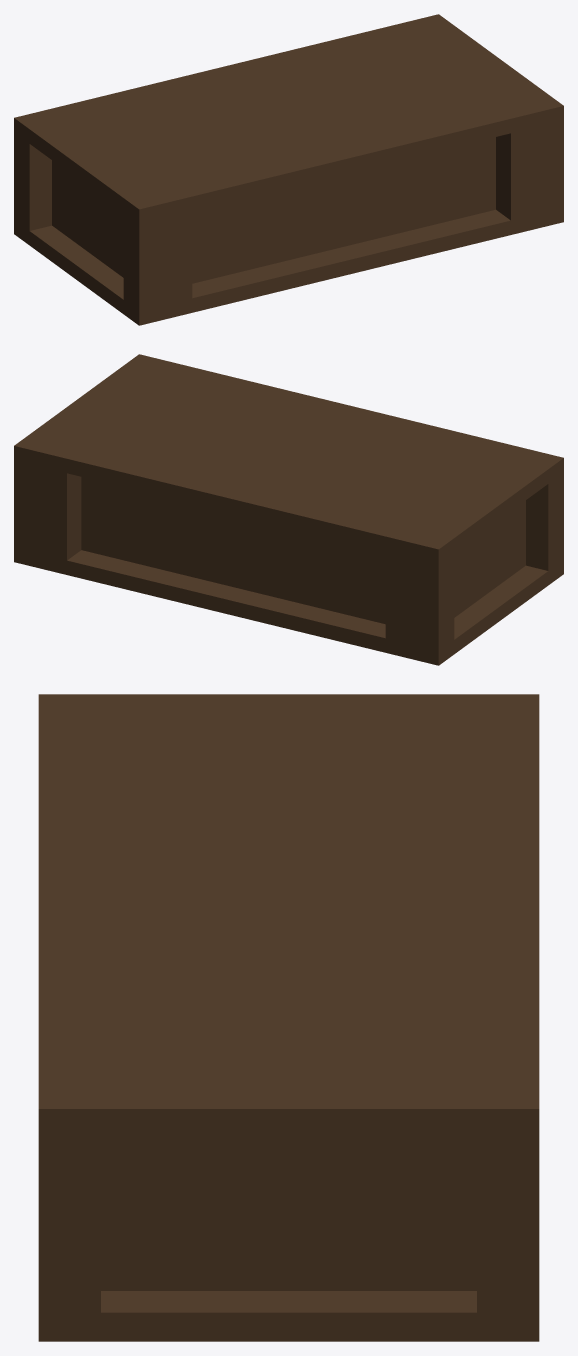
File: platform.fbx
3 views of the same model, one above another, from view 1: azimuth 30°, elevation 25°; view 2: azimuth 150°, elevation 25°; view 3: azimuth 270°, elevation 25° (orthographic). The views are drawn at different scales.
Parts seen in each view (by area): view 1: pCube1; view 2: pCube1; view 3: pCube1.
Part boxes in pixels (x1=…): pCube1: x1=14, y1=14, x2=563, y2=325; pCube1: x1=14, y1=354, x2=563, y2=665; pCube1: x1=38, y1=694, x2=539, y2=1341.
Size of the model in its own units: 2.88 by 0.7524 by 1.47.
